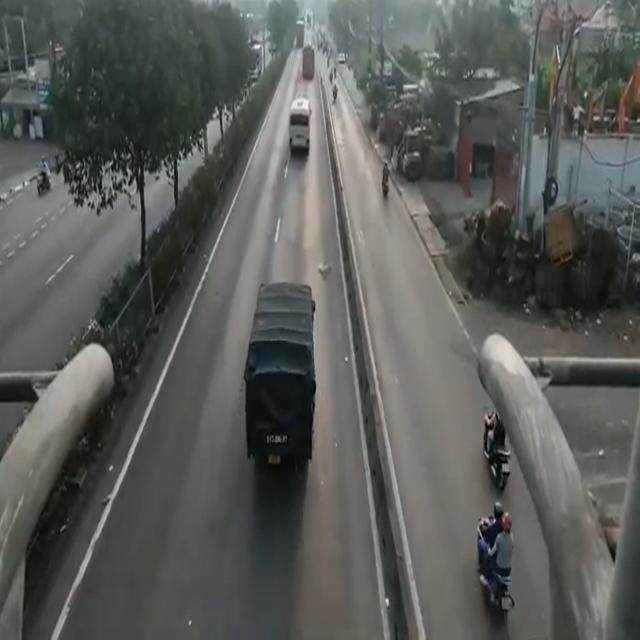bus: (285, 98, 314, 164)
motor: (476, 514, 512, 616), (483, 398, 506, 492)
truck: (251, 279, 315, 468)
